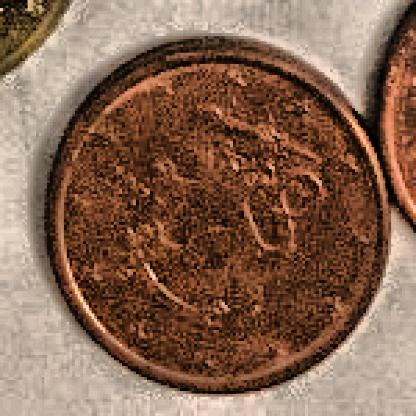coin: (48, 37, 388, 398)
